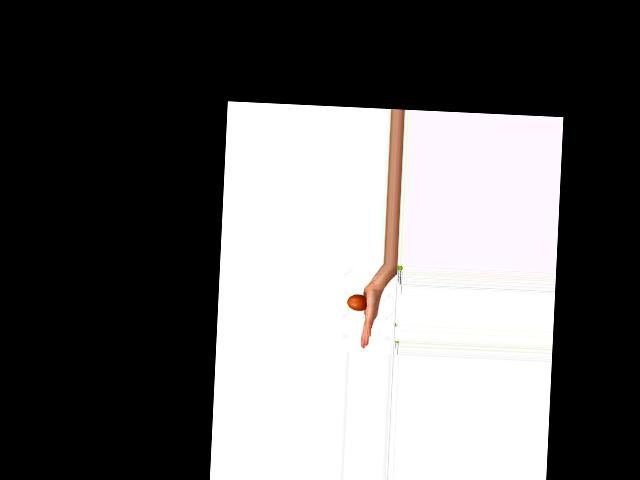egg: (347, 294, 367, 311)
